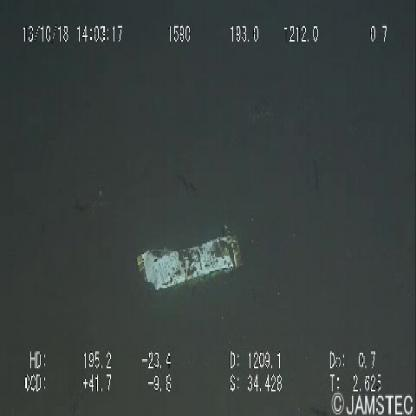Rác: (128, 210, 244, 302)
